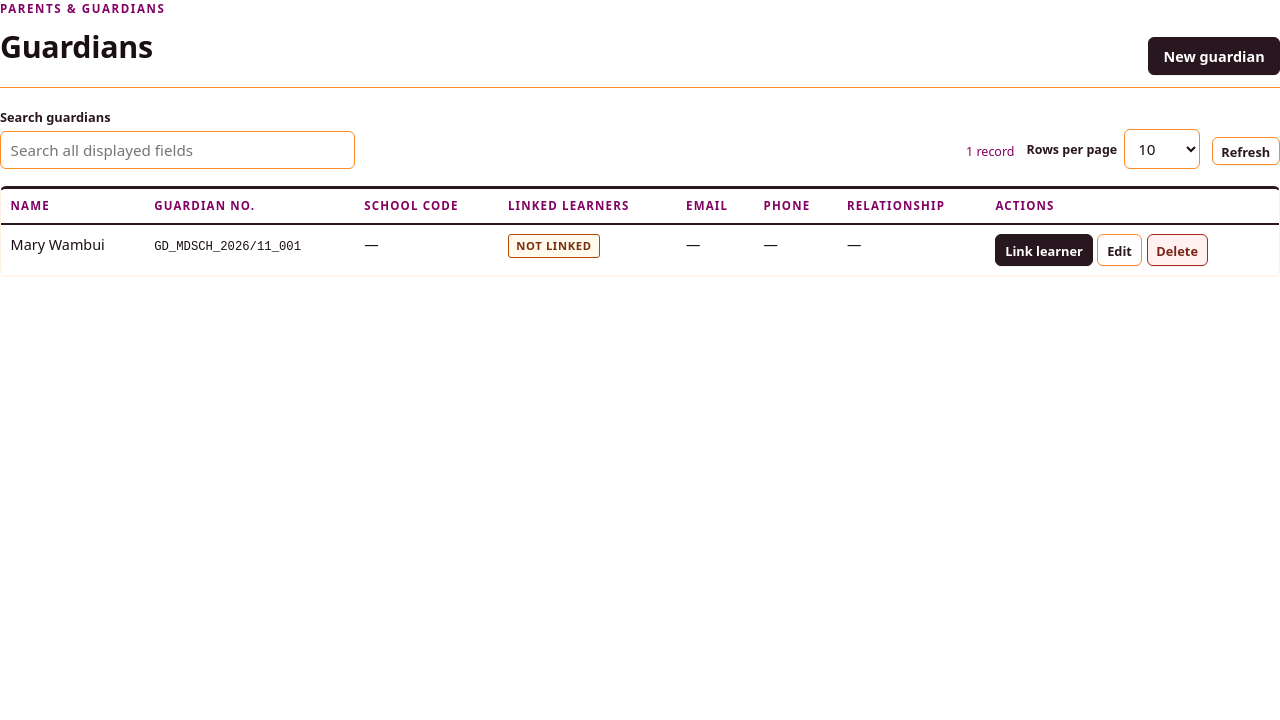
it: Guardians learner linking › searches live and posts the selected learner id with access permissions
The width and height of the screenshot is (1280, 720).
Later steps or results of the test are not shown.
Click the button "Link learner" at (1044, 250), box [995,234,1093,266]
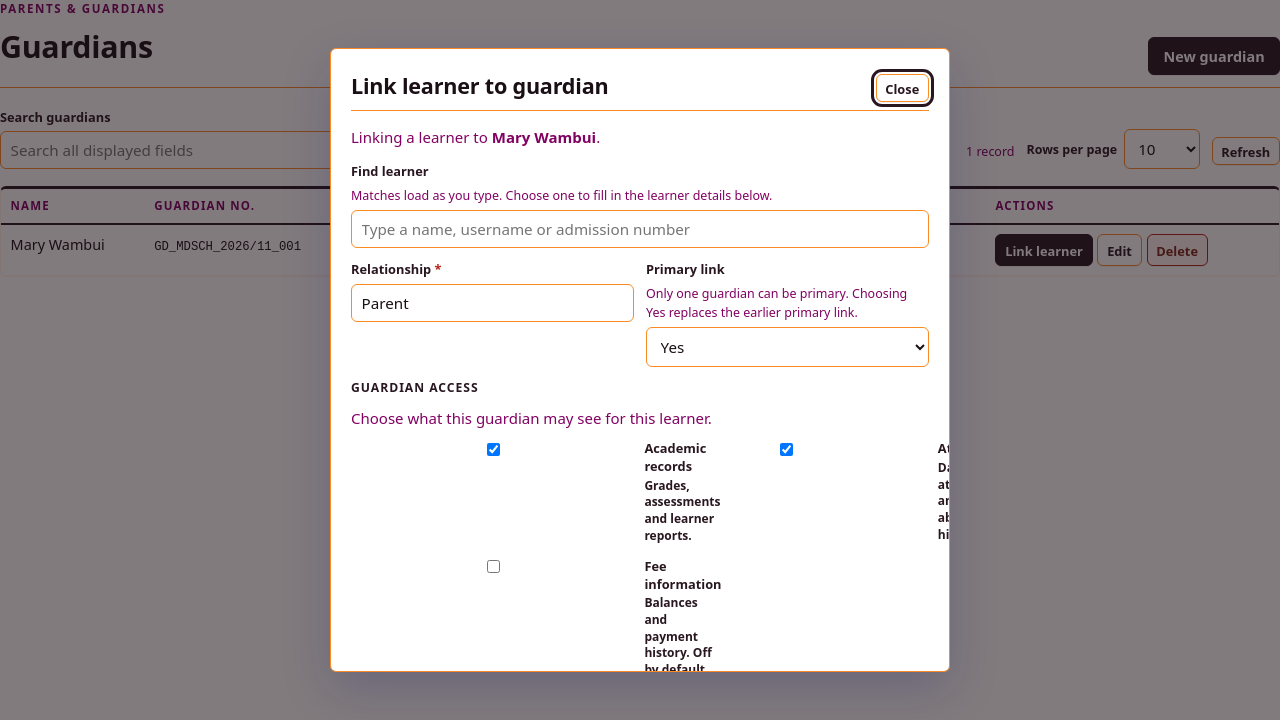
Type "benj" into the dropdown with placeholder "Type a name, username or admission number" at (640, 229), box [351,210,929,248]
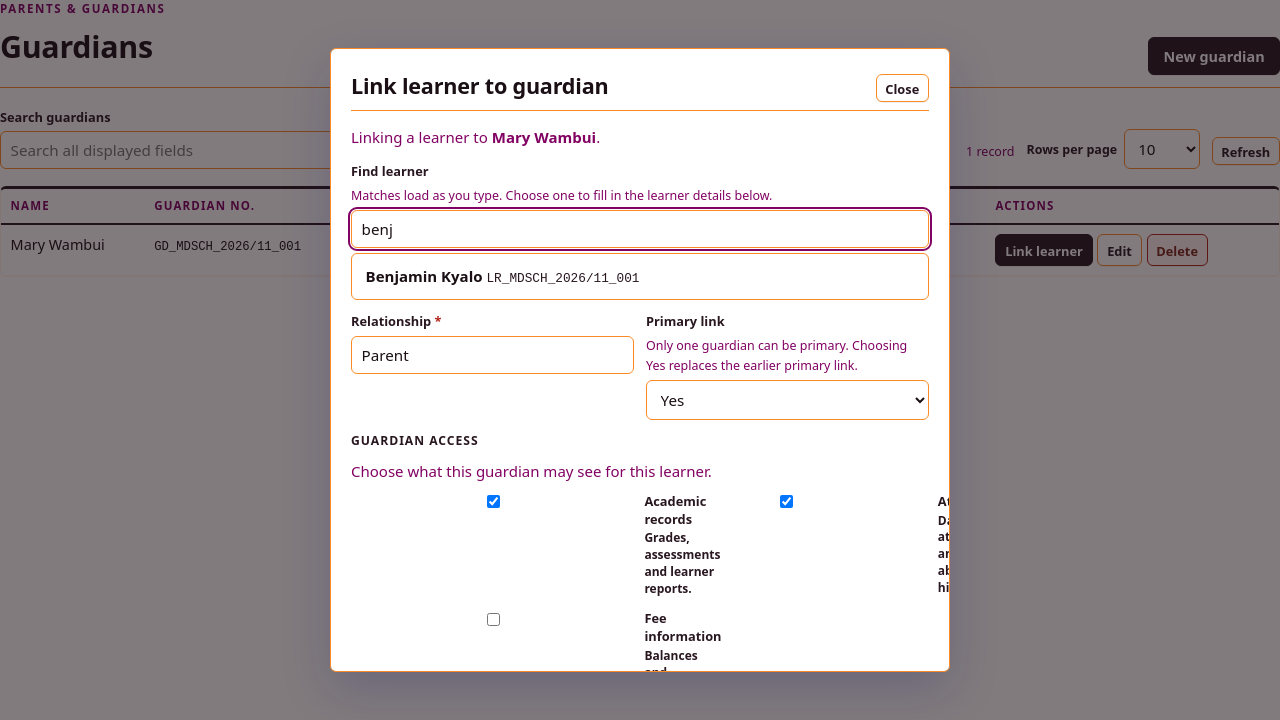
Click the text "Benjamin Kyalo" at (424, 276), box [366,266,482,286]
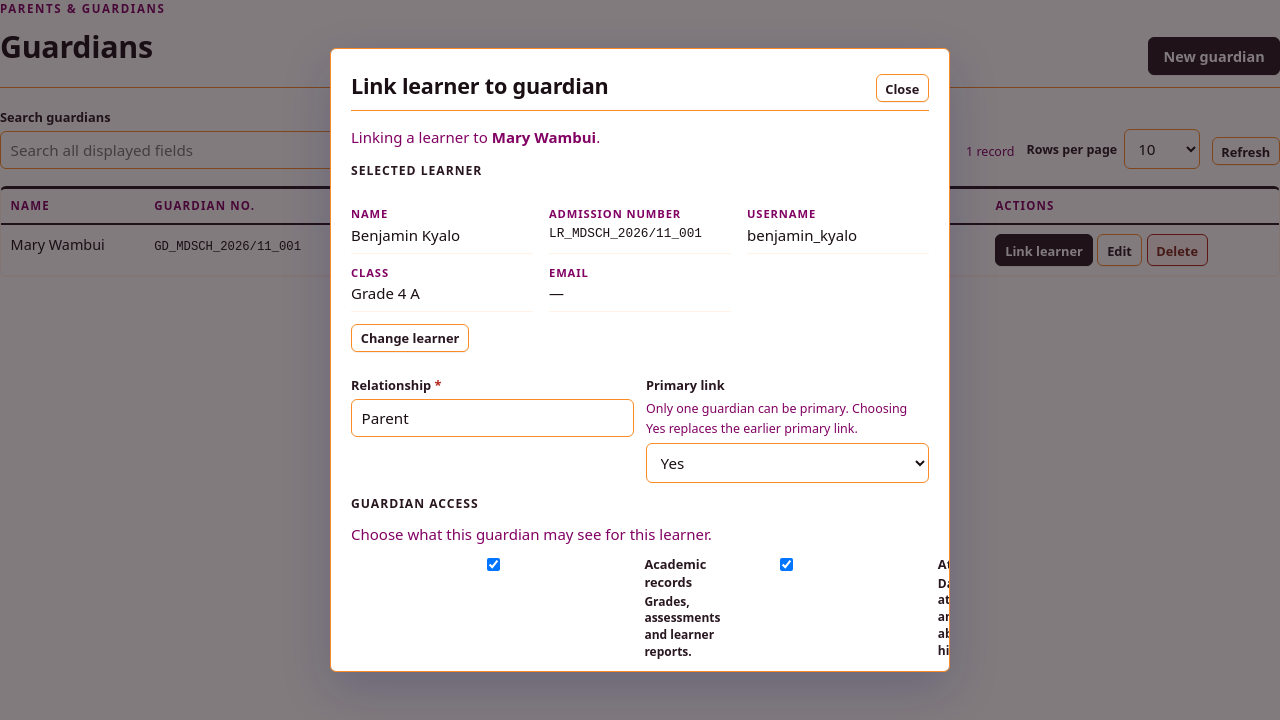
Check: the text "LR_MDSCH_2026/11_001" is shown, box [549,226,702,241]
Check: the text "Selected learner" is shown, box [351,162,482,180]
